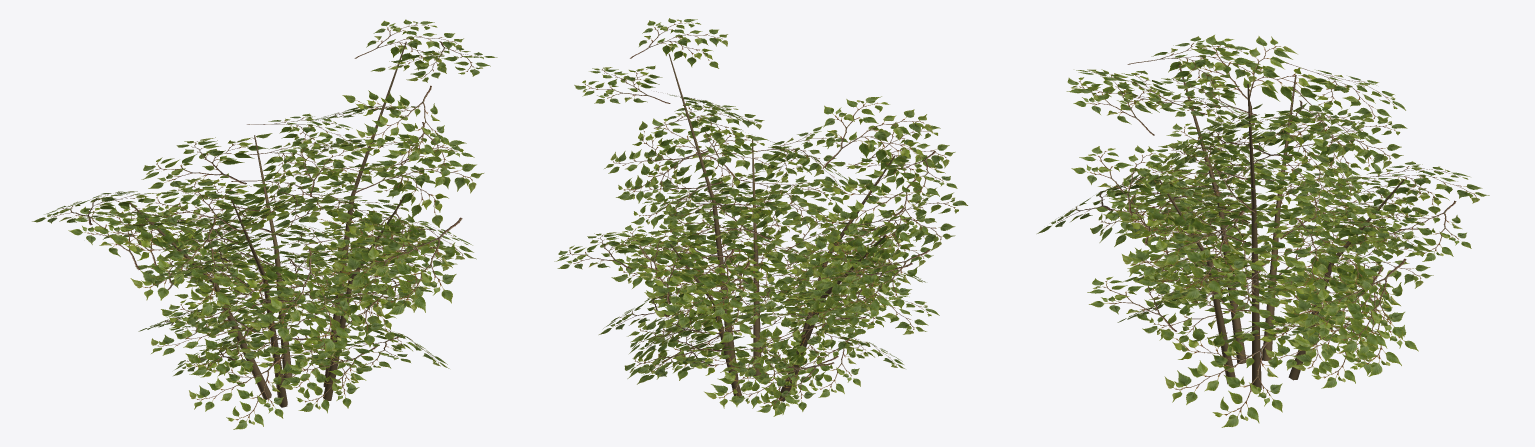
The model's file is hazel_bush.gltf.
3 views of the same model, side by side, from view 1: azimuth 30°, elevation 25°; view 2: azimuth 150°, elevation 25°; view 3: azimuth 270°, elevation 25° (orthographic). The views are drawn at different scales.
Visible parts, largest first — view 1: hazel_bush; view 2: hazel_bush; view 3: hazel_bush.
Part boxes in pixels (left/top/right/bottom): hazel_bush: left=32, top=19, right=497, bottom=429; hazel_bush: left=554, top=18, right=967, bottom=416; hazel_bush: left=1037, top=35, right=1489, bottom=427.
Size of the model in its own units: 1.86 by 1.35 by 1.79.
2 materials, 1 textured.
